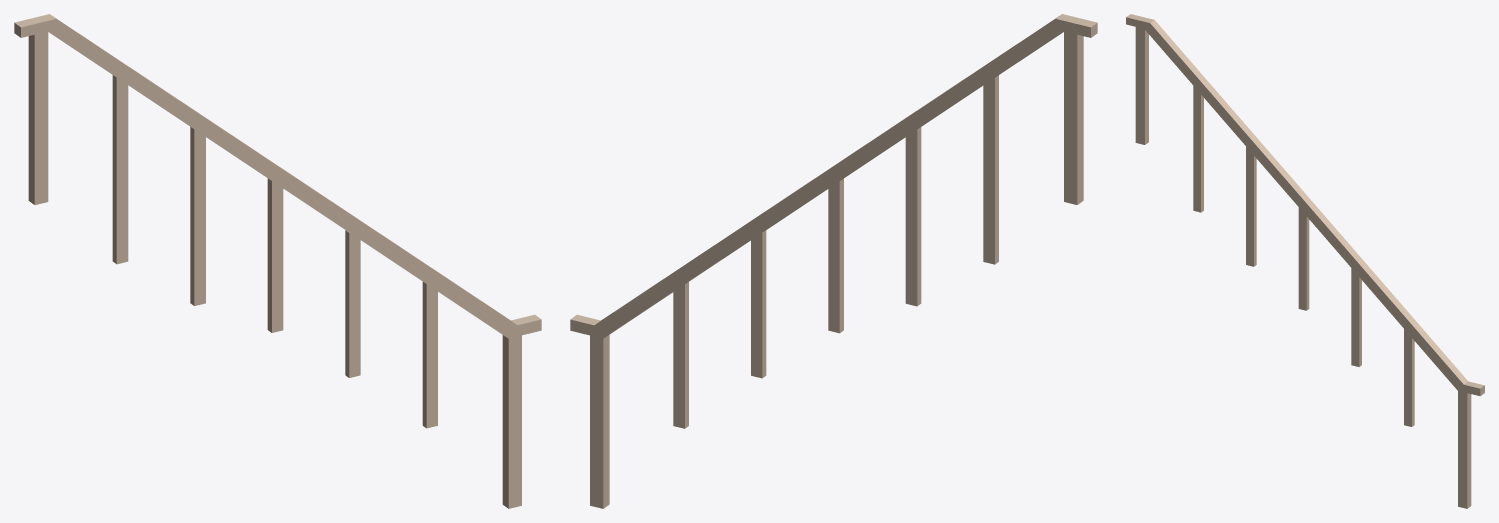
Rendered from StairsPart_03_dra.glb.
3 renders of one model, left to right at view 1: azimuth 30°, elevation 25°; view 2: azimuth 150°, elevation 25°; view 3: azimuth 330°, elevation 25°, orthographic. The views are drawn at different scales.
Parts seen in each view (by area): view 1: StairsPart_03; view 2: StairsPart_03; view 3: StairsPart_03.
Part boxes in pixels (x1=…): StairsPart_03: x1=14, y1=14, x2=541, y2=508; StairsPart_03: x1=570, y1=14, x2=1097, y2=508; StairsPart_03: x1=1126, y1=14, x2=1484, y2=508.
Bounding box in the file's own units: 3.25 × 3.58 × 0.0717.
1 material, 1 textured.
